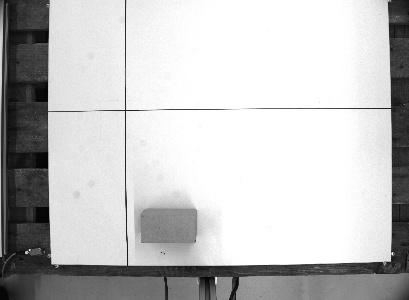b2: (138, 206, 199, 247)
